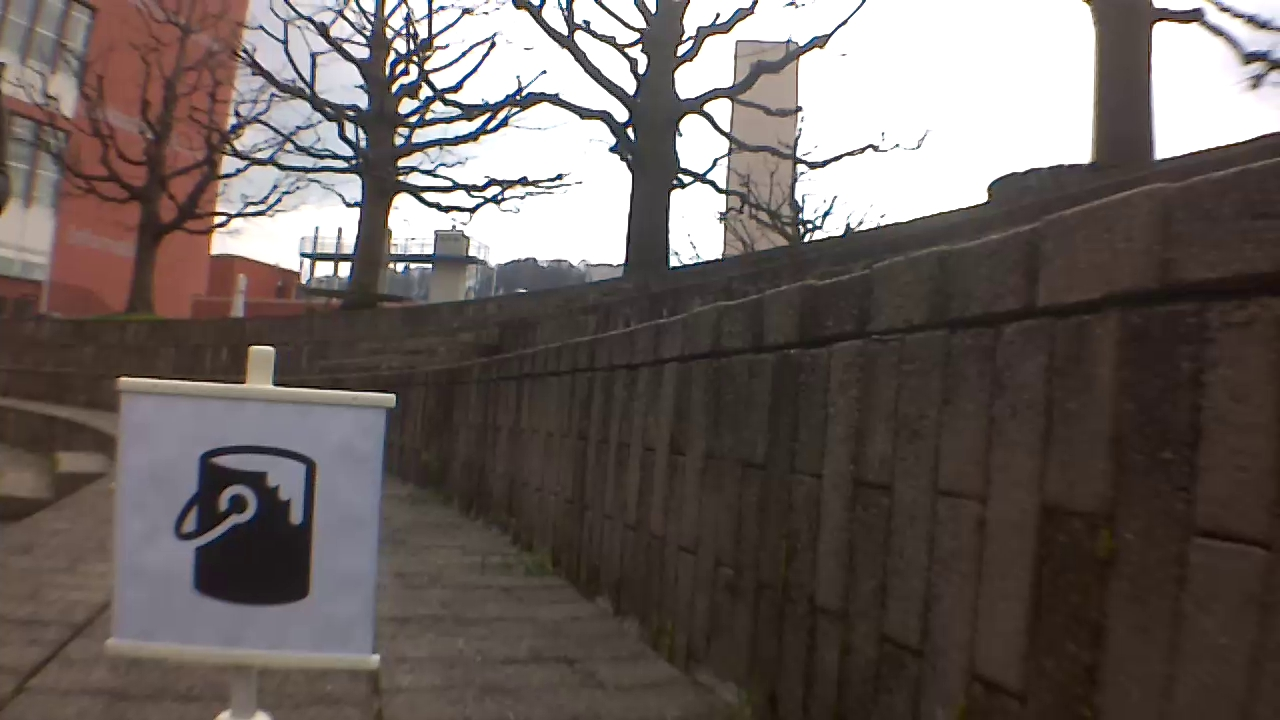bucket: (176, 446, 322, 611)
